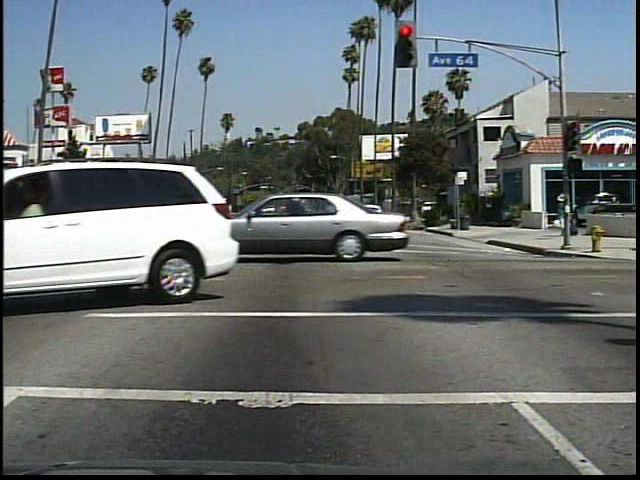person: (551, 189, 577, 234)
